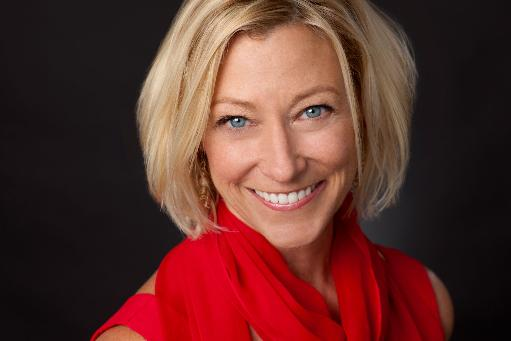left_eye: (294, 104, 340, 124)
left_lip_corner: (317, 177, 335, 189)
right_eye: (218, 115, 261, 132)
right_lip_corner: (244, 184, 258, 196)
